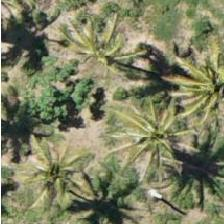coconut_tree: (17, 127, 107, 217), (117, 87, 207, 177), (64, 0, 154, 89)
